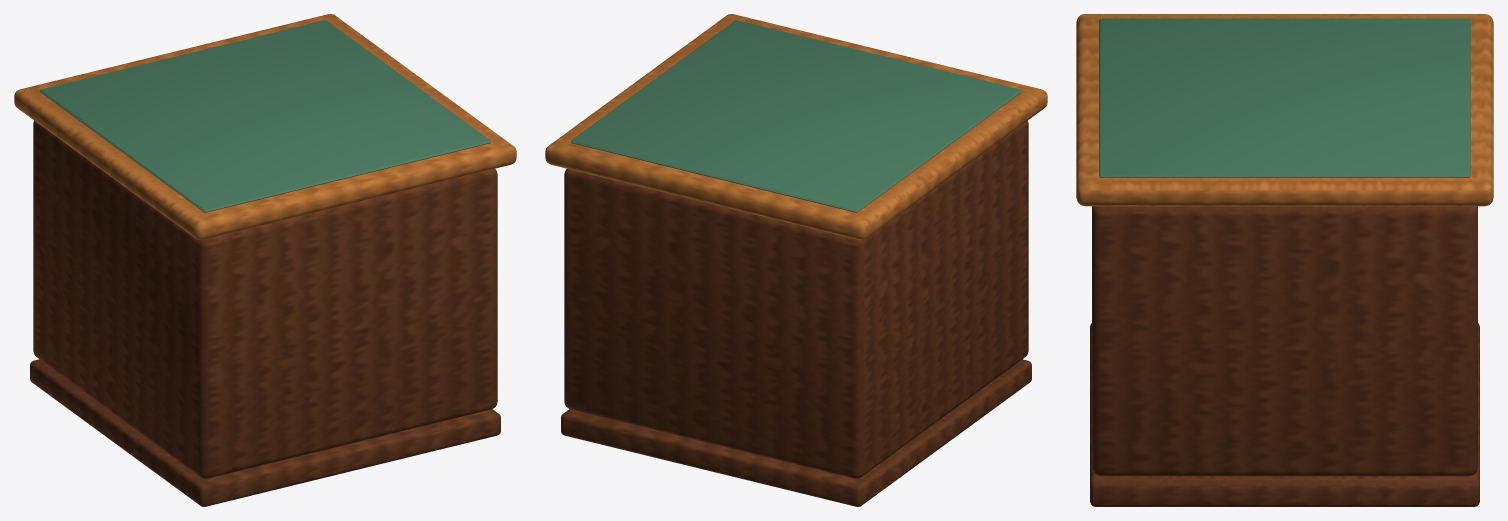
The model's file is counter_corner.glb.
3 renders of one model, left to right at view 1: azimuth 30°, elevation 25°; view 2: azimuth 150°, elevation 25°; view 3: azimuth 270°, elevation 25°, orthographic. The views are drawn at different scales.
Parts seen in each view (by area): view 1: body, inlay, top, plinth; view 2: body, inlay, top, plinth; view 3: body, inlay, top, plinth.
Part boxes in pixels (left/top/right/bottom): body: left=33, top=120, right=497, bottom=478; inlay: left=40, top=20, right=490, bottom=212; top: left=14, top=14, right=516, bottom=240; plinth: left=30, top=359, right=500, bottom=506; body: left=564, top=120, right=1028, bottom=478; inlay: left=571, top=20, right=1021, bottom=212; top: left=545, top=14, right=1047, bottom=240; plinth: left=561, top=359, right=1031, bottom=506; body: left=1092, top=206, right=1477, bottom=476; inlay: left=1099, top=18, right=1470, bottom=177; top: left=1076, top=14, right=1493, bottom=206; plinth: left=1090, top=323, right=1479, bottom=506.
Size of the model in its own units: 0.46 by 0.4015 by 0.46.
Materials: 3 (2 with a texture image).
